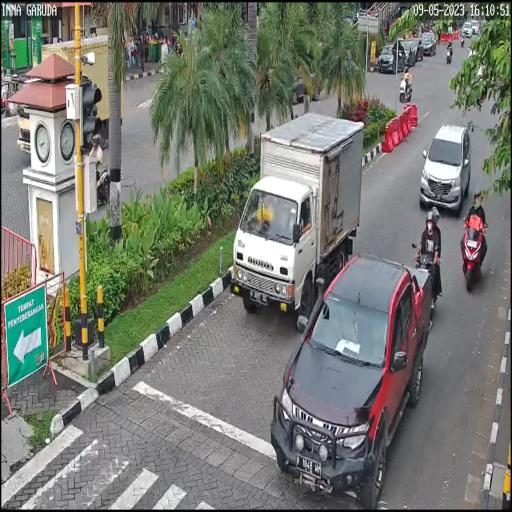mobil: (272, 250, 436, 502), (224, 110, 365, 318), (416, 119, 471, 217)
motor: (458, 209, 492, 294), (412, 238, 446, 306)
